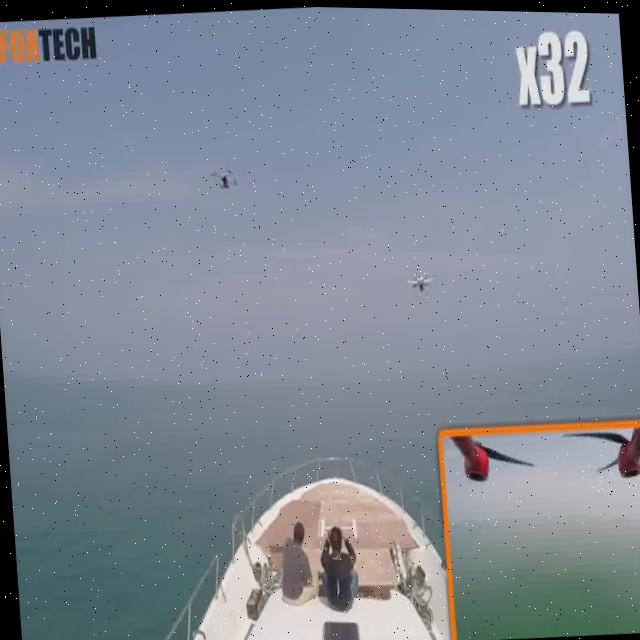drone: (204, 145, 250, 193), (402, 258, 436, 303)
